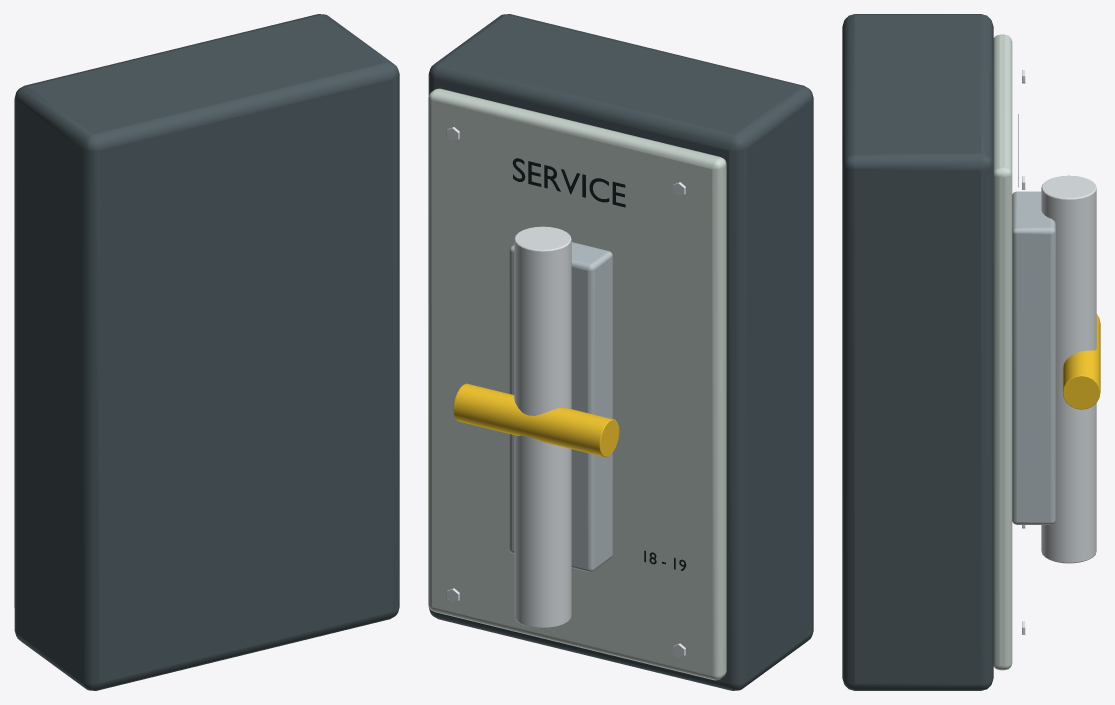
The model's file is service_latch_panel.glb.
3 views of the same model, side by side, from view 1: azimuth 30°, elevation 25°; view 2: azimuth 150°, elevation 25°; view 3: azimuth 270°, elevation 25° (orthographic). The views are drawn at different scales.
Visible parts, largest first — view 1: service_latch_panel_render_mesh; view 2: service_latch_panel_render_mesh; view 3: service_latch_panel_render_mesh.
Boxes of the visible parts, x1,y1,x2,y2 form: service_latch_panel_render_mesh: (14,14,399,690); service_latch_panel_render_mesh: (428,14,813,690); service_latch_panel_render_mesh: (842,14,1100,690).
Size of the model in its own units: 0.28 by 0.47 by 0.205.
